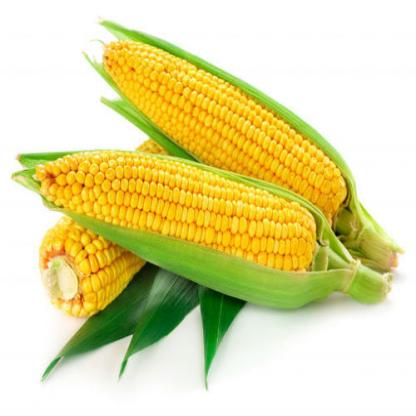---: (80, 7, 381, 258), (32, 140, 355, 304)
